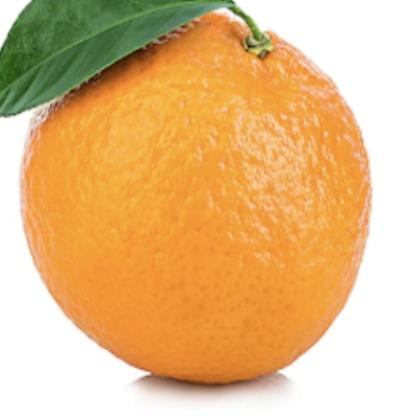fresh: (22, 13, 371, 388)
